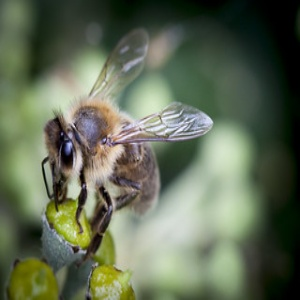bee: (39, 25, 214, 269)
